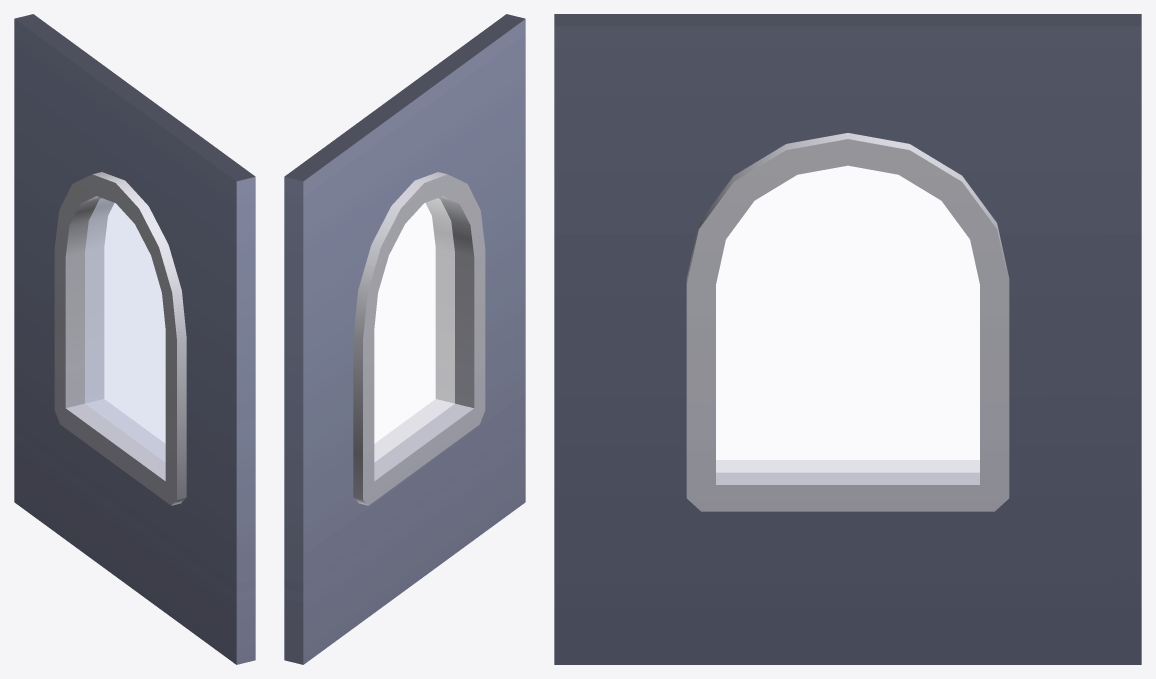
File: wall-window-round.optimized.glb
The picture shows the model from 3 angles, left to right: view 1: azimuth 30°, elevation 25°; view 2: azimuth 150°, elevation 25°; view 3: azimuth 270°, elevation 25°; orthographic projection. The views are drawn at different scales.
Visible parts, largest first — view 1: wall-window-round, (%ignore); view 2: wall-window-round, (%ignore); view 3: wall-window-round, (%ignore).
Boxes of the visible parts, x1,y1,x2,y2 form: wall-window-round: (14,14,255,664); (%ignore): (85,198,165,462); wall-window-round: (284,14,525,664); (%ignore): (374,198,454,462); wall-window-round: (554,14,1141,664); (%ignore): (716,165,979,472).
Bounding box in the file's own units: 0.2001 × 2.4 × 2.
Materials: 2 (1 with a texture image).
